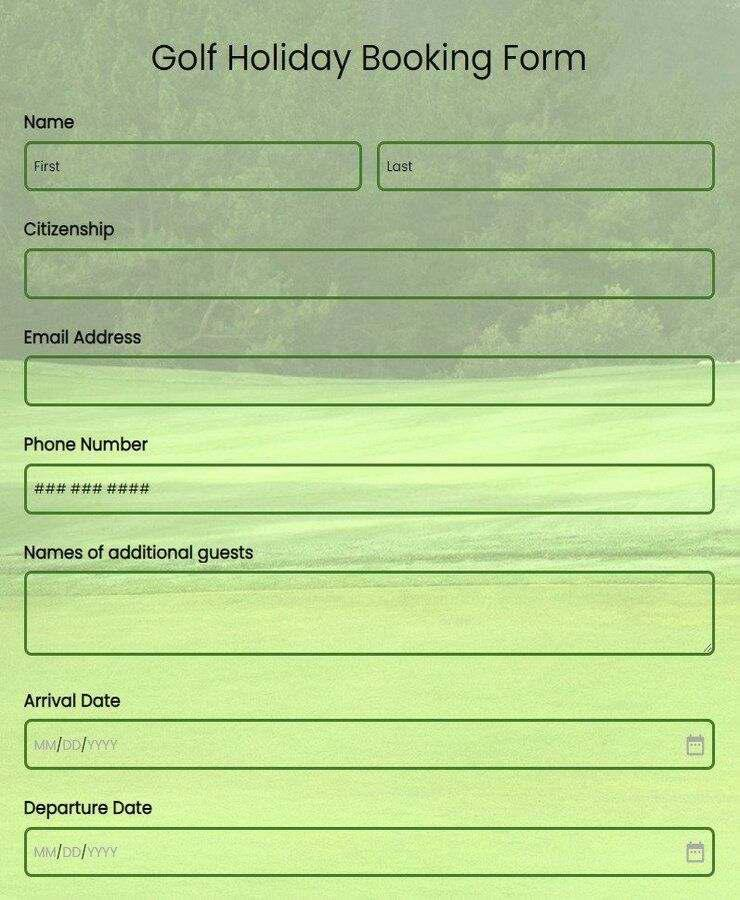input: (26, 573, 715, 656), (26, 356, 717, 406), (26, 465, 717, 514), (28, 829, 716, 877), (25, 251, 714, 297), (26, 722, 713, 767), (380, 142, 715, 192), (26, 142, 361, 190)
label: (15, 538, 260, 563), (22, 432, 156, 457), (12, 800, 162, 819), (15, 328, 148, 348), (19, 219, 120, 241), (16, 690, 129, 709), (21, 112, 80, 134)
